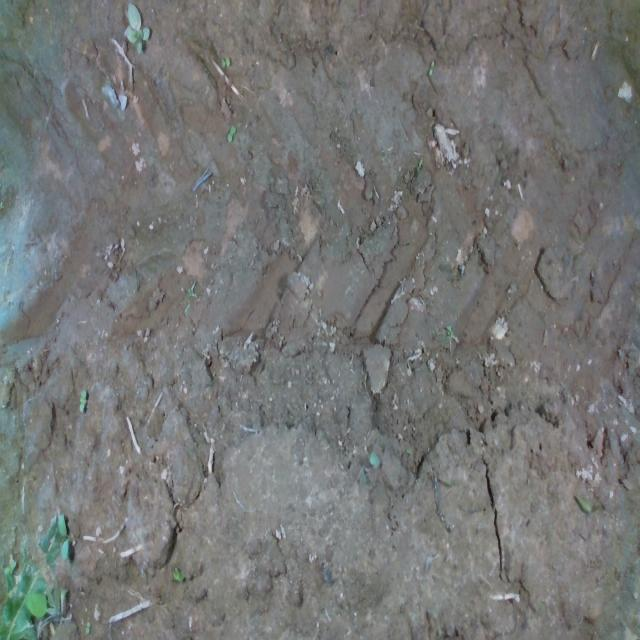weed: (78, 387, 86, 414), (226, 122, 236, 142), (220, 55, 230, 68)
